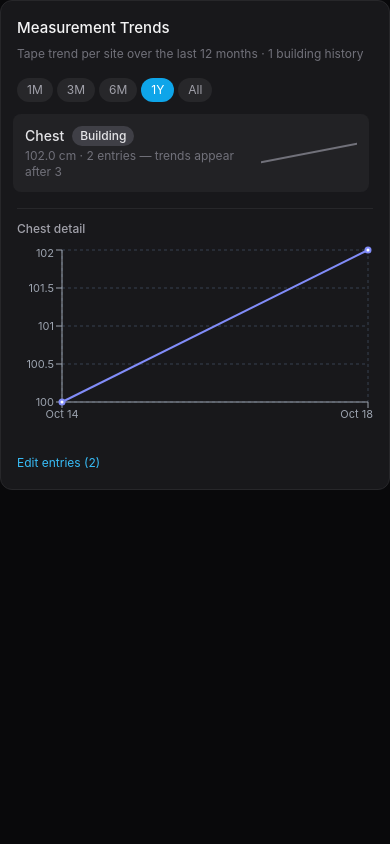
Test: MeasurementTrendCard entry editor › rejects a non-positive value without writing
Click the button with test id "measurement-entries-toggle": (59, 462) [17, 454, 100, 470]
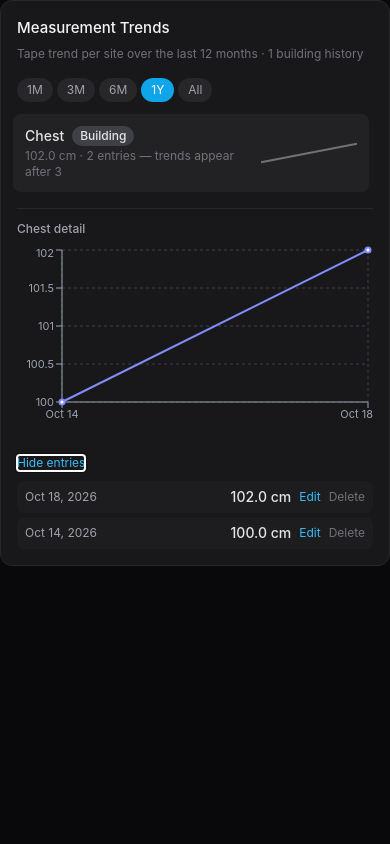
Click the button "Edit" in the row of "Oct 18, 2026": (310, 496) [299, 488, 321, 504]
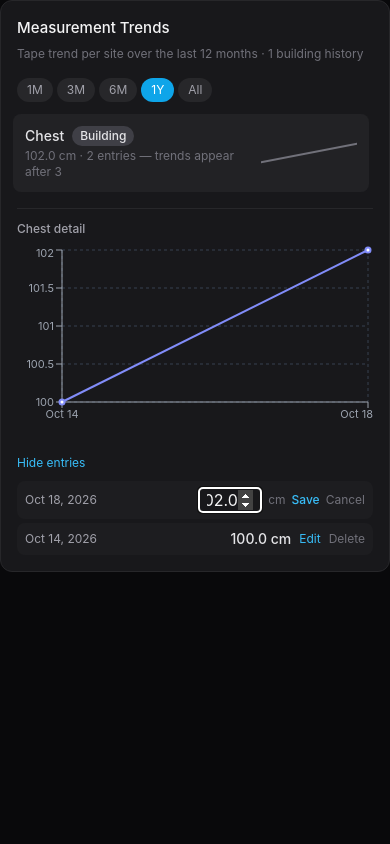
Clear the number field with test id "measurement-entry-input": (230, 500) [198, 486, 262, 512]
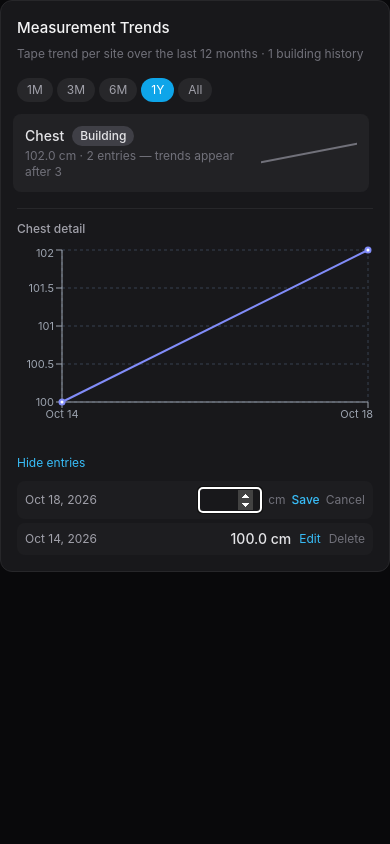
Click the button with test id "measurement-entry-save": (306, 500) [292, 492, 320, 508]
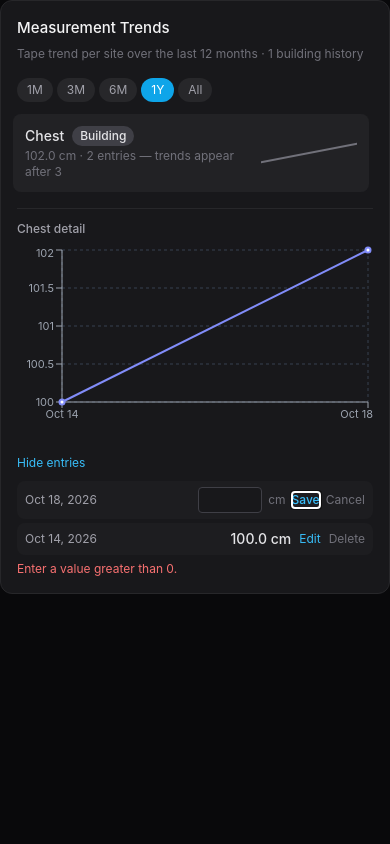
Expected: the text with test id "measurement-entry-error" shows "greater than 0", [17, 560, 177, 576]
